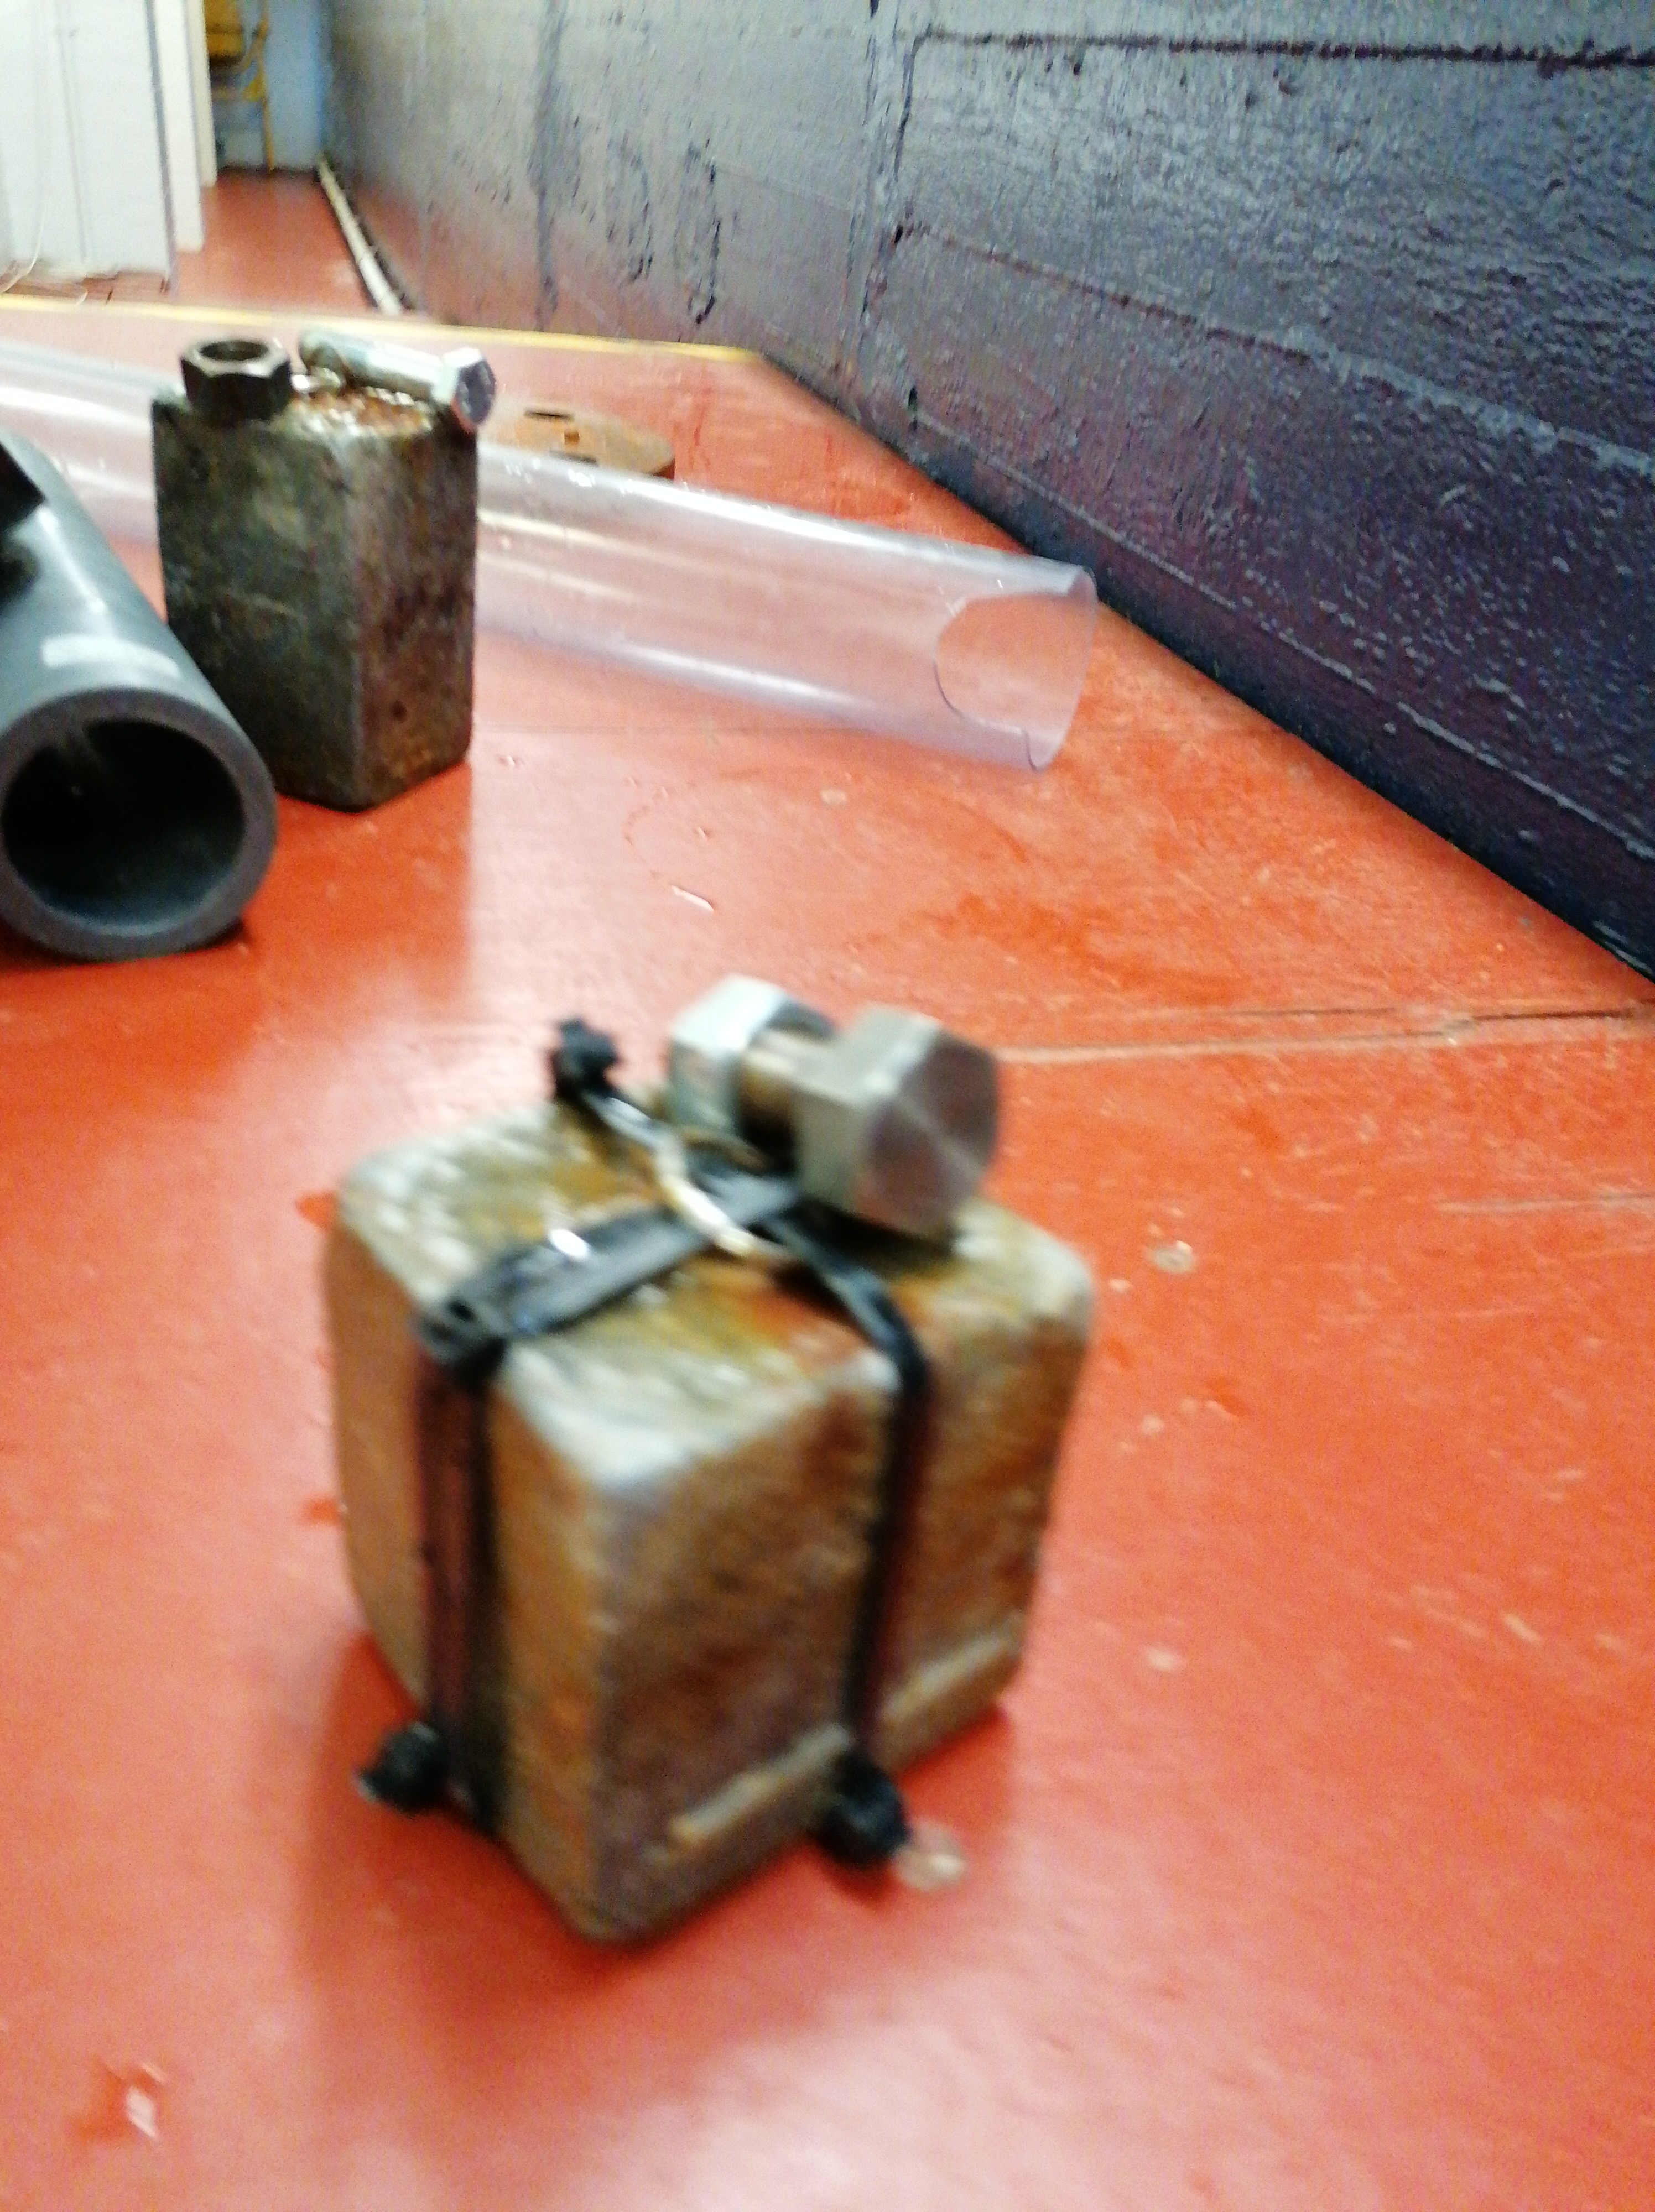bolt: (737, 1022, 1000, 1242), (299, 330, 494, 434)
flange: (483, 396, 676, 476)
led_block: (322, 1017, 1095, 1659), (148, 337, 480, 815)
nut: (673, 971, 831, 1168), (181, 332, 292, 421)
pipe: (471, 447, 1100, 770), (0, 429, 275, 963), (0, 335, 162, 554)
